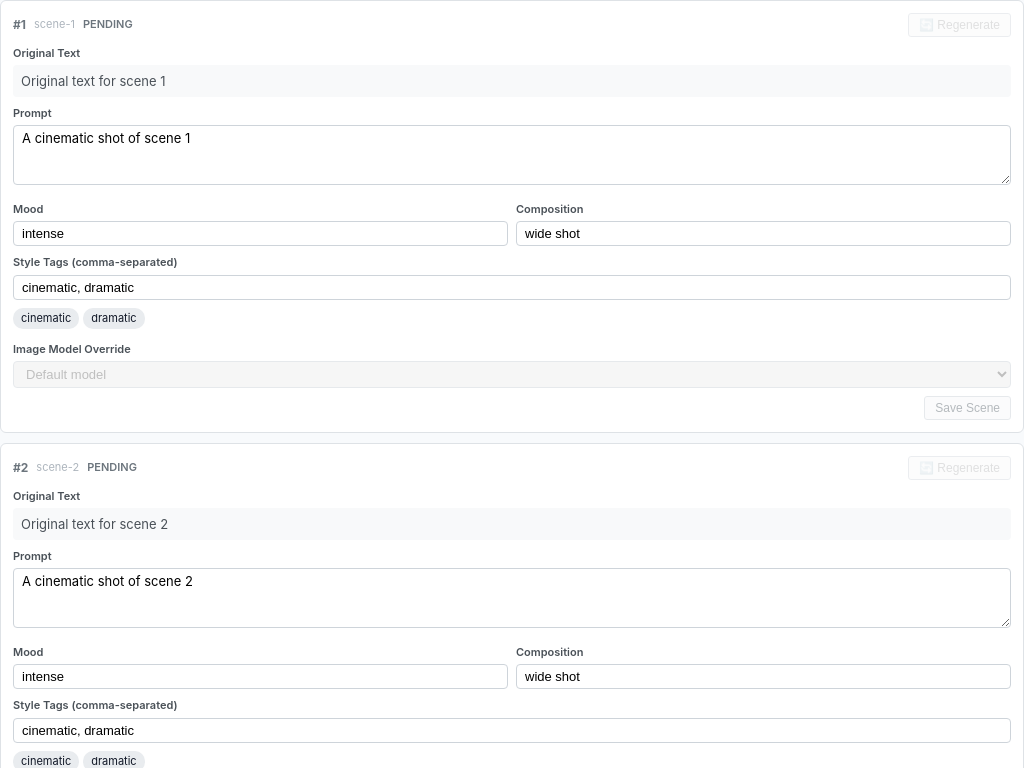
Scenario: VisualPlanEditor › editing prompt marks scene dirty
Expected: the element with test id "scene-scene-1" is shown, [0,0,1023,433]
Replace the text in the text box with test id "scene-scene-1-prompt" with "A modified prompt" at (512, 155), box [13,125,1011,185]
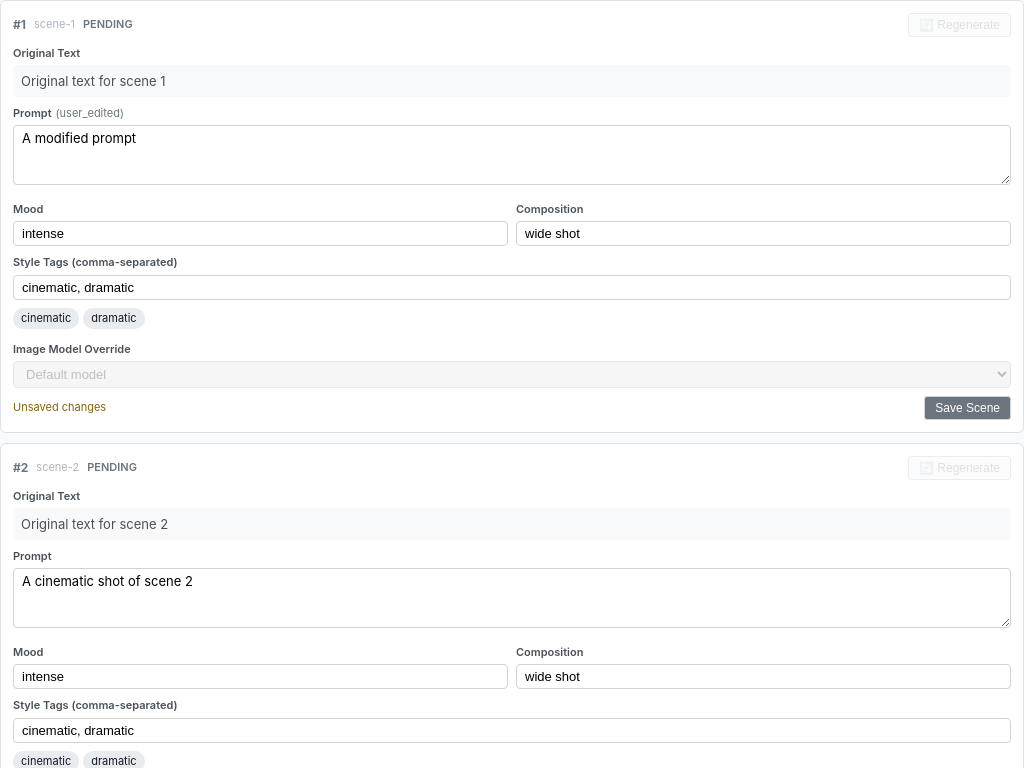
Now the text with test id "scene-scene-1-dirty" reads "Unsaved changes", box [13,400,106,414]
